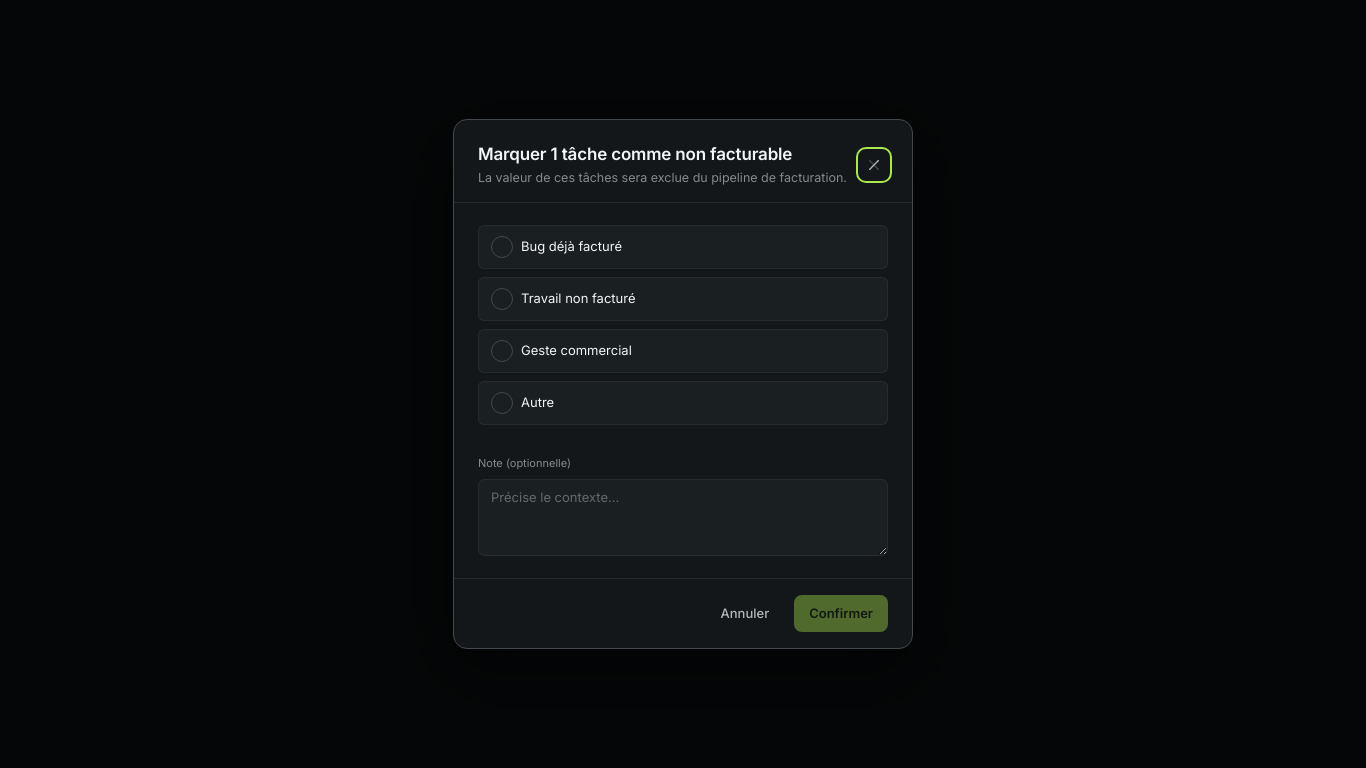
it: NonBillableDialog › keeps confirm disabled until a reason is selected
This screenshot has width=1366, height=768.
Expected: the button "Confirmer" is disabled, [794,595,888,632]
Click the radio button labelled "Geste commercial" at (576, 350), box [478,329,888,373]
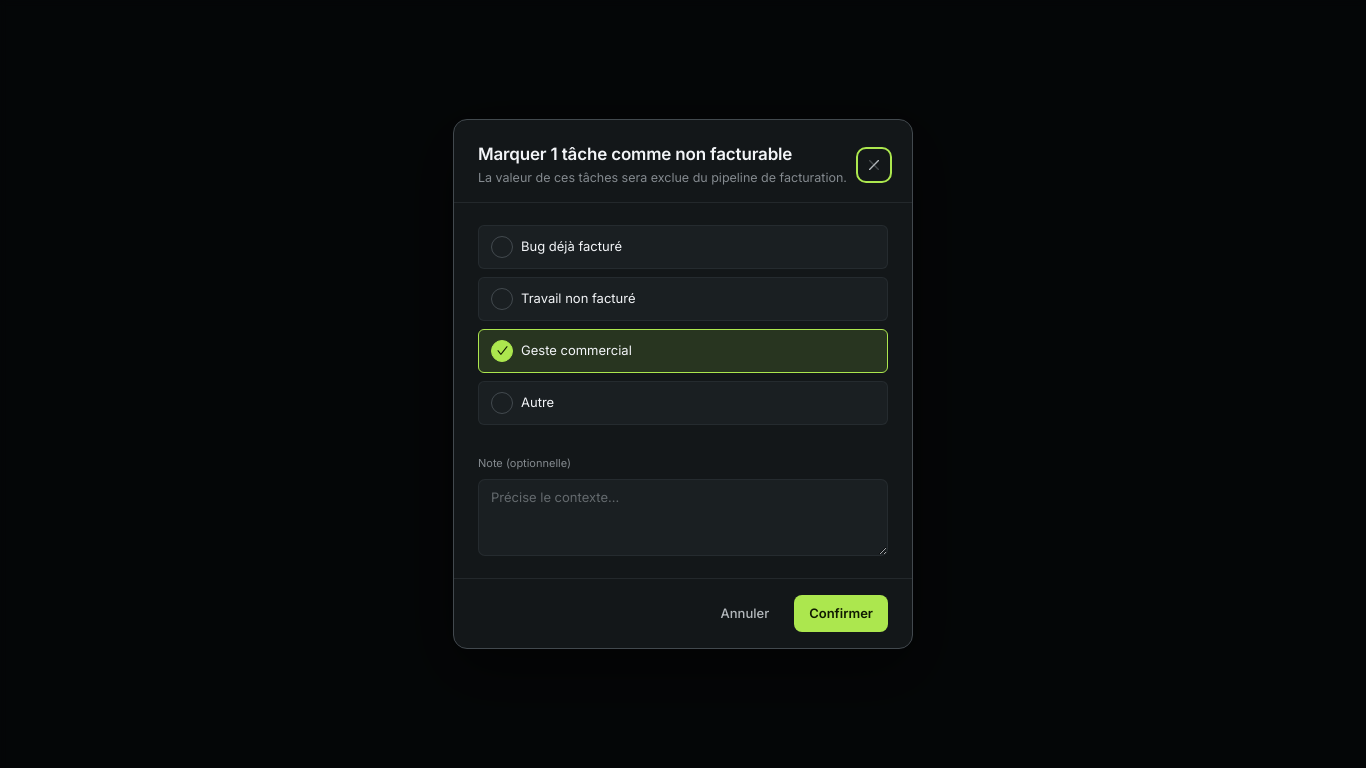
Result: the button "Confirmer" is enabled at [794,595,888,632]
